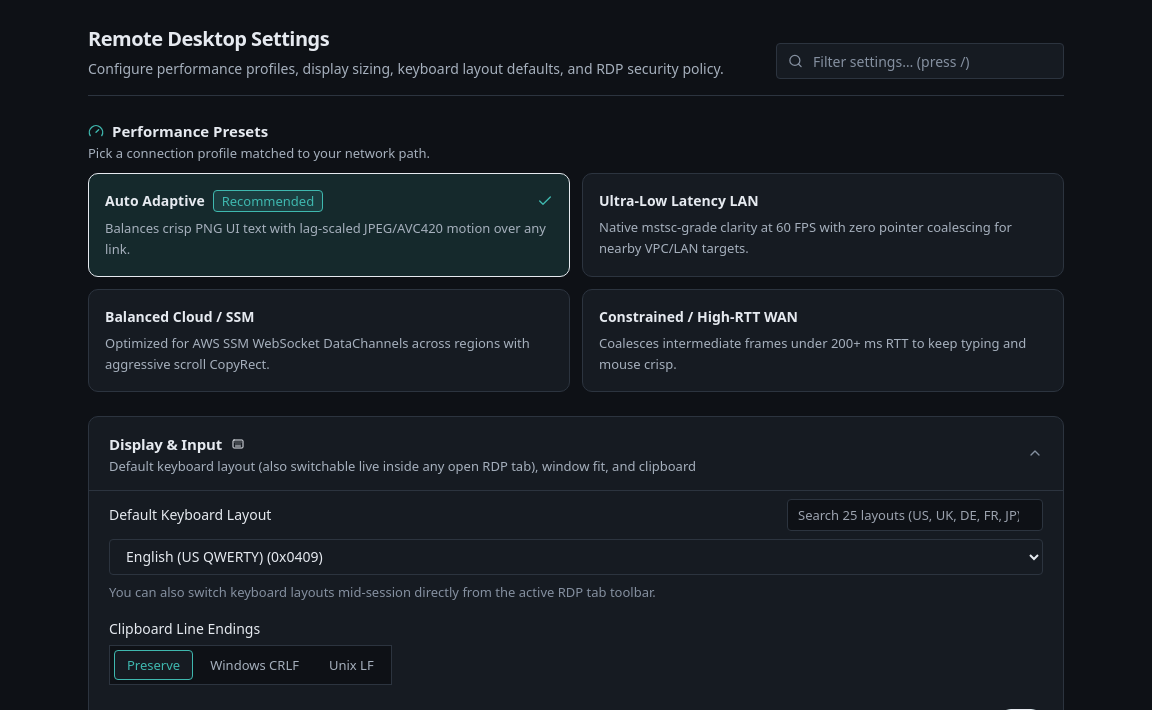
Remote Desktop Settings & OQR2 Codec › renders streamlined operator settings without debug badges and surfaces dirty bar on preset change
Later steps or results of the test are not shown.
Click the radio button labelled "Ultra-Low Latency LAN" at (823, 225), box [582,172,1064,277]
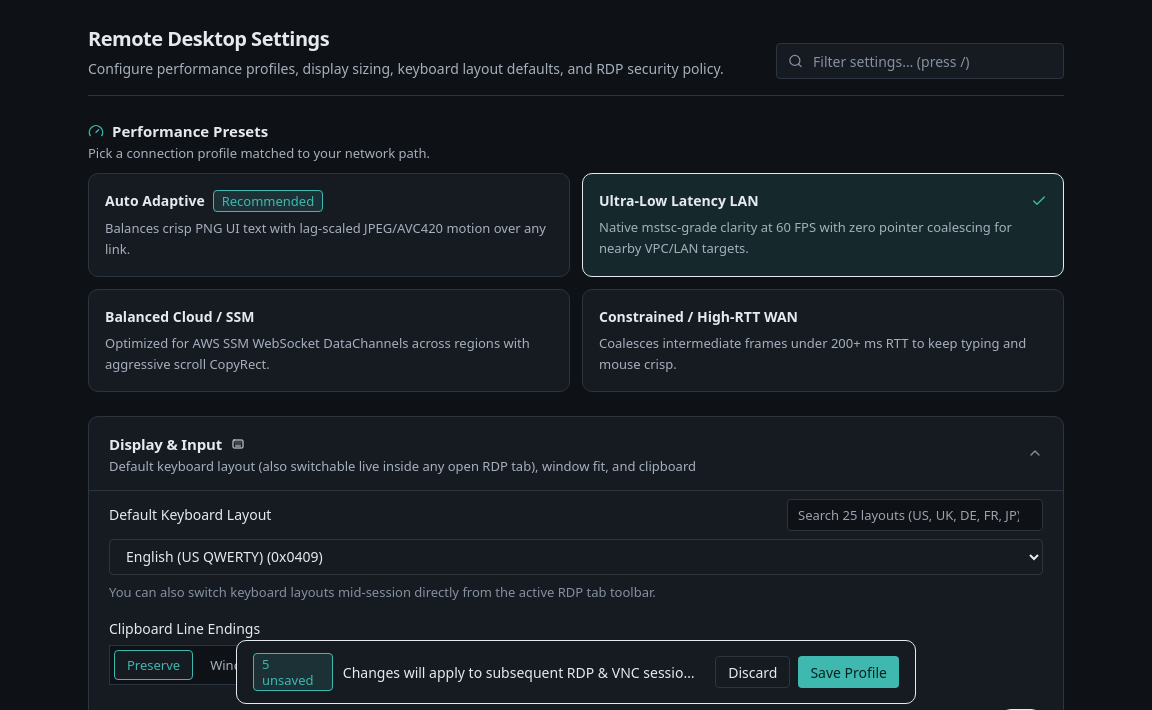
Check: the element named "Unsaved settings changes" is shown, box [236,640,916,704]
